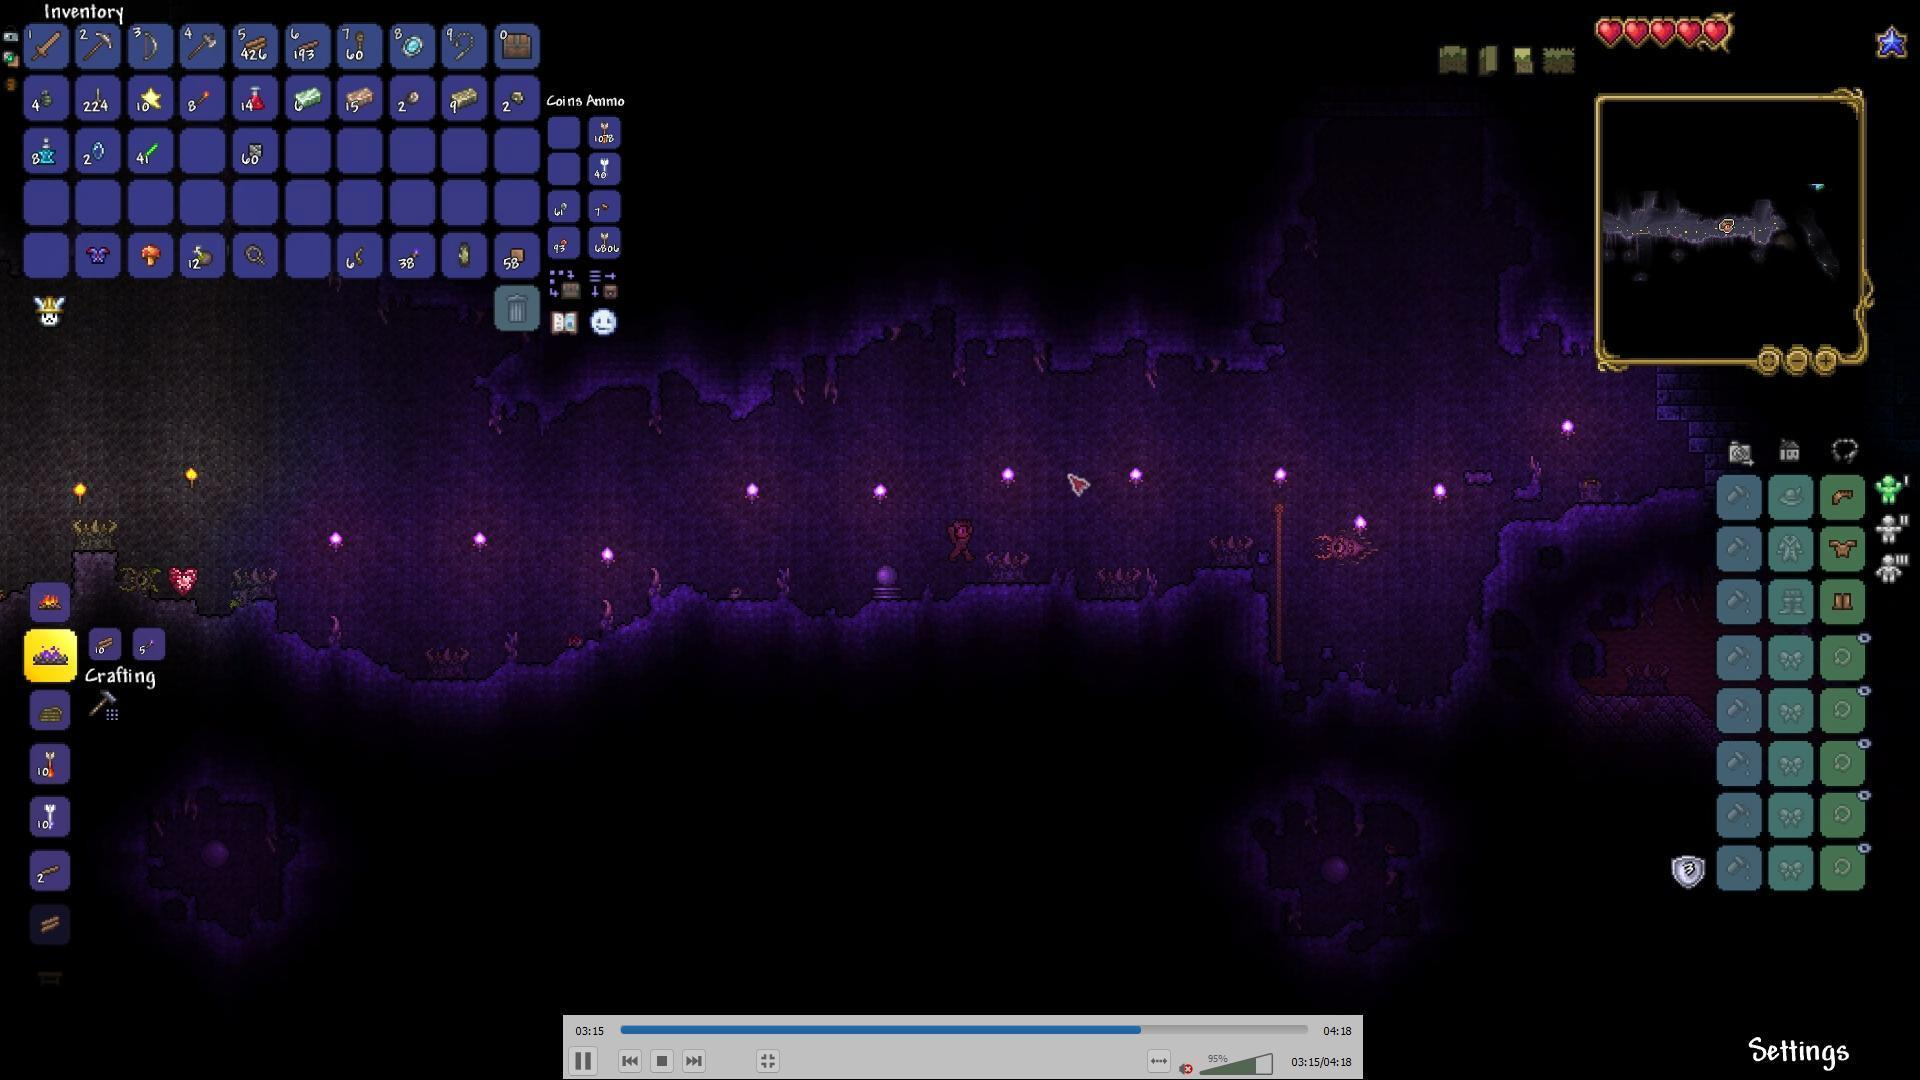chest: (502, 33, 531, 61)
crimera: (1308, 525, 1382, 563)
potion: (245, 80, 265, 112)
recallP: (37, 135, 58, 165)
